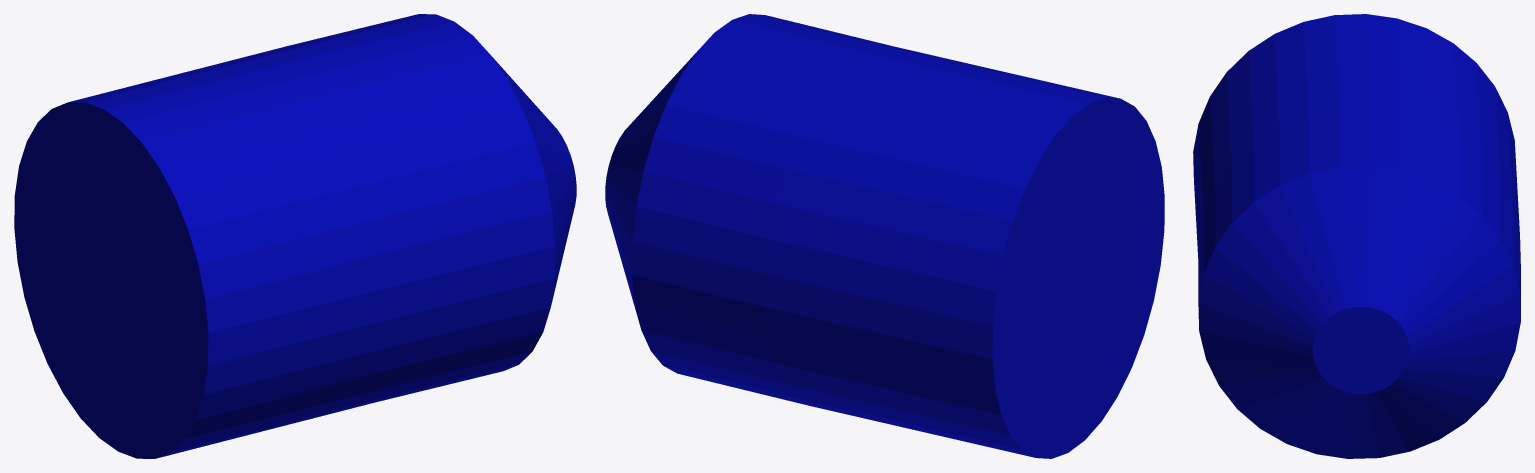
Rendered from 7_2_Infusion_hanged_fill.gltf.
The picture shows the model from 3 angles, left to right: view 1: azimuth 30°, elevation 25°; view 2: azimuth 150°, elevation 25°; view 3: azimuth 270°, elevation 25°; orthographic projection. The views are drawn at different scales.
Parts seen in each view (by area): view 1: filling; view 2: filling; view 3: filling.
Part boxes in pixels (left/top/right/bottom): filling: left=14, top=14, right=576, bottom=458; filling: left=605, top=14, right=1164, bottom=458; filling: left=1193, top=14, right=1520, bottom=458.
Bounding box in the file's own units: 0.4638 × 0.3293 × 0.3337.
